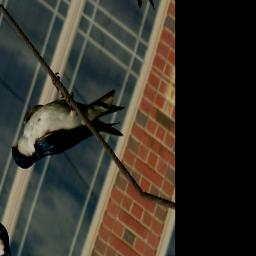Swallow: (8, 34, 134, 229)
